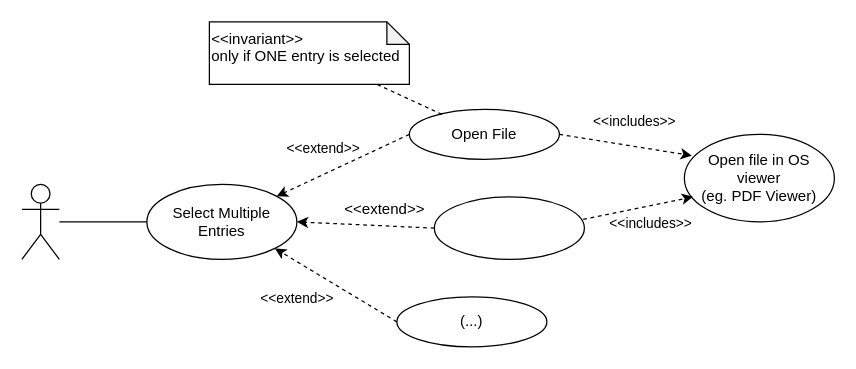
This 856x369 diagram has some shape labels left out. The box of each missing label's shape, as (x1, y1, x2, y2) in pixels:
Open Multiple Files: (433, 196, 584, 259)
User: (21, 183, 59, 259)
